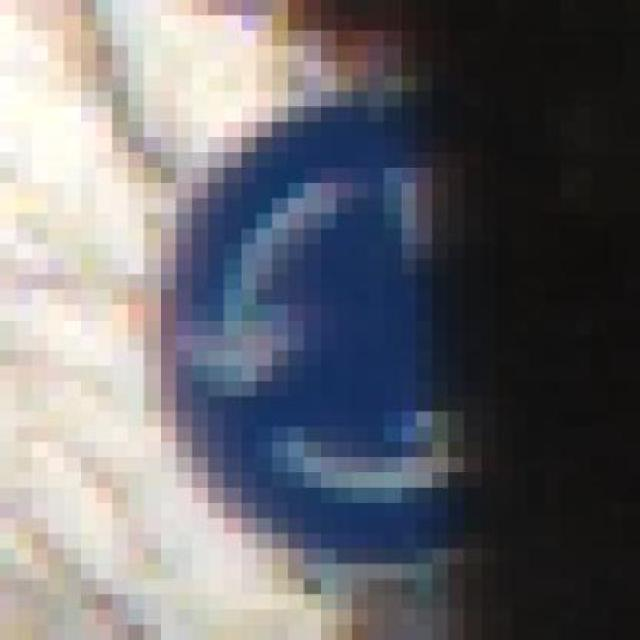Round-About: (79, 61, 576, 564)
